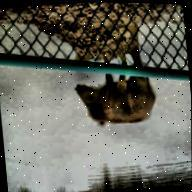boar: (71, 48, 158, 131)
